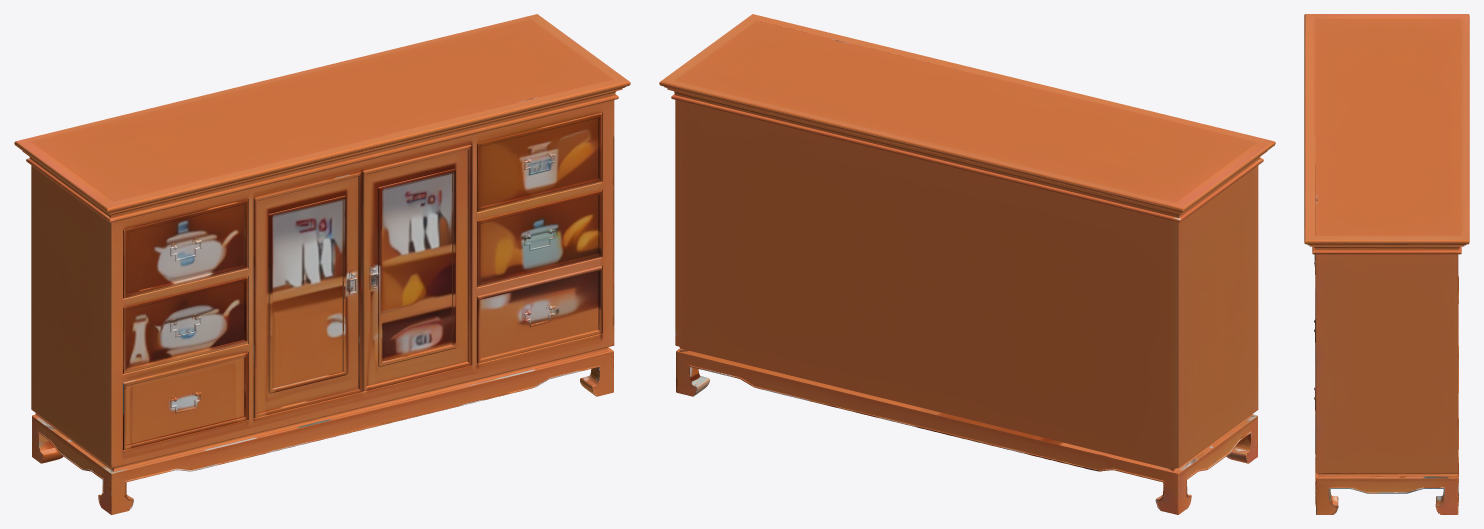
File: edited_mesh.glb
3 views of the same model, side by side, from view 1: azimuth 30°, elevation 25°; view 2: azimuth 150°, elevation 25°; view 3: azimuth 270°, elevation 25° (orthographic). The views are drawn at different scales.
Visible parts, largest first — view 1: solid_001_wire; view 2: solid_001_wire; view 3: solid_001_wire.
Part boxes in pixels (x1,y1,x2,y2): solid_001_wire: (14, 14, 630, 514); solid_001_wire: (659, 14, 1275, 514); solid_001_wire: (1304, 14, 1469, 514).
Size of the model in its own units: 1.86 by 1.07 by 0.5733.
1 material, 1 textured.
